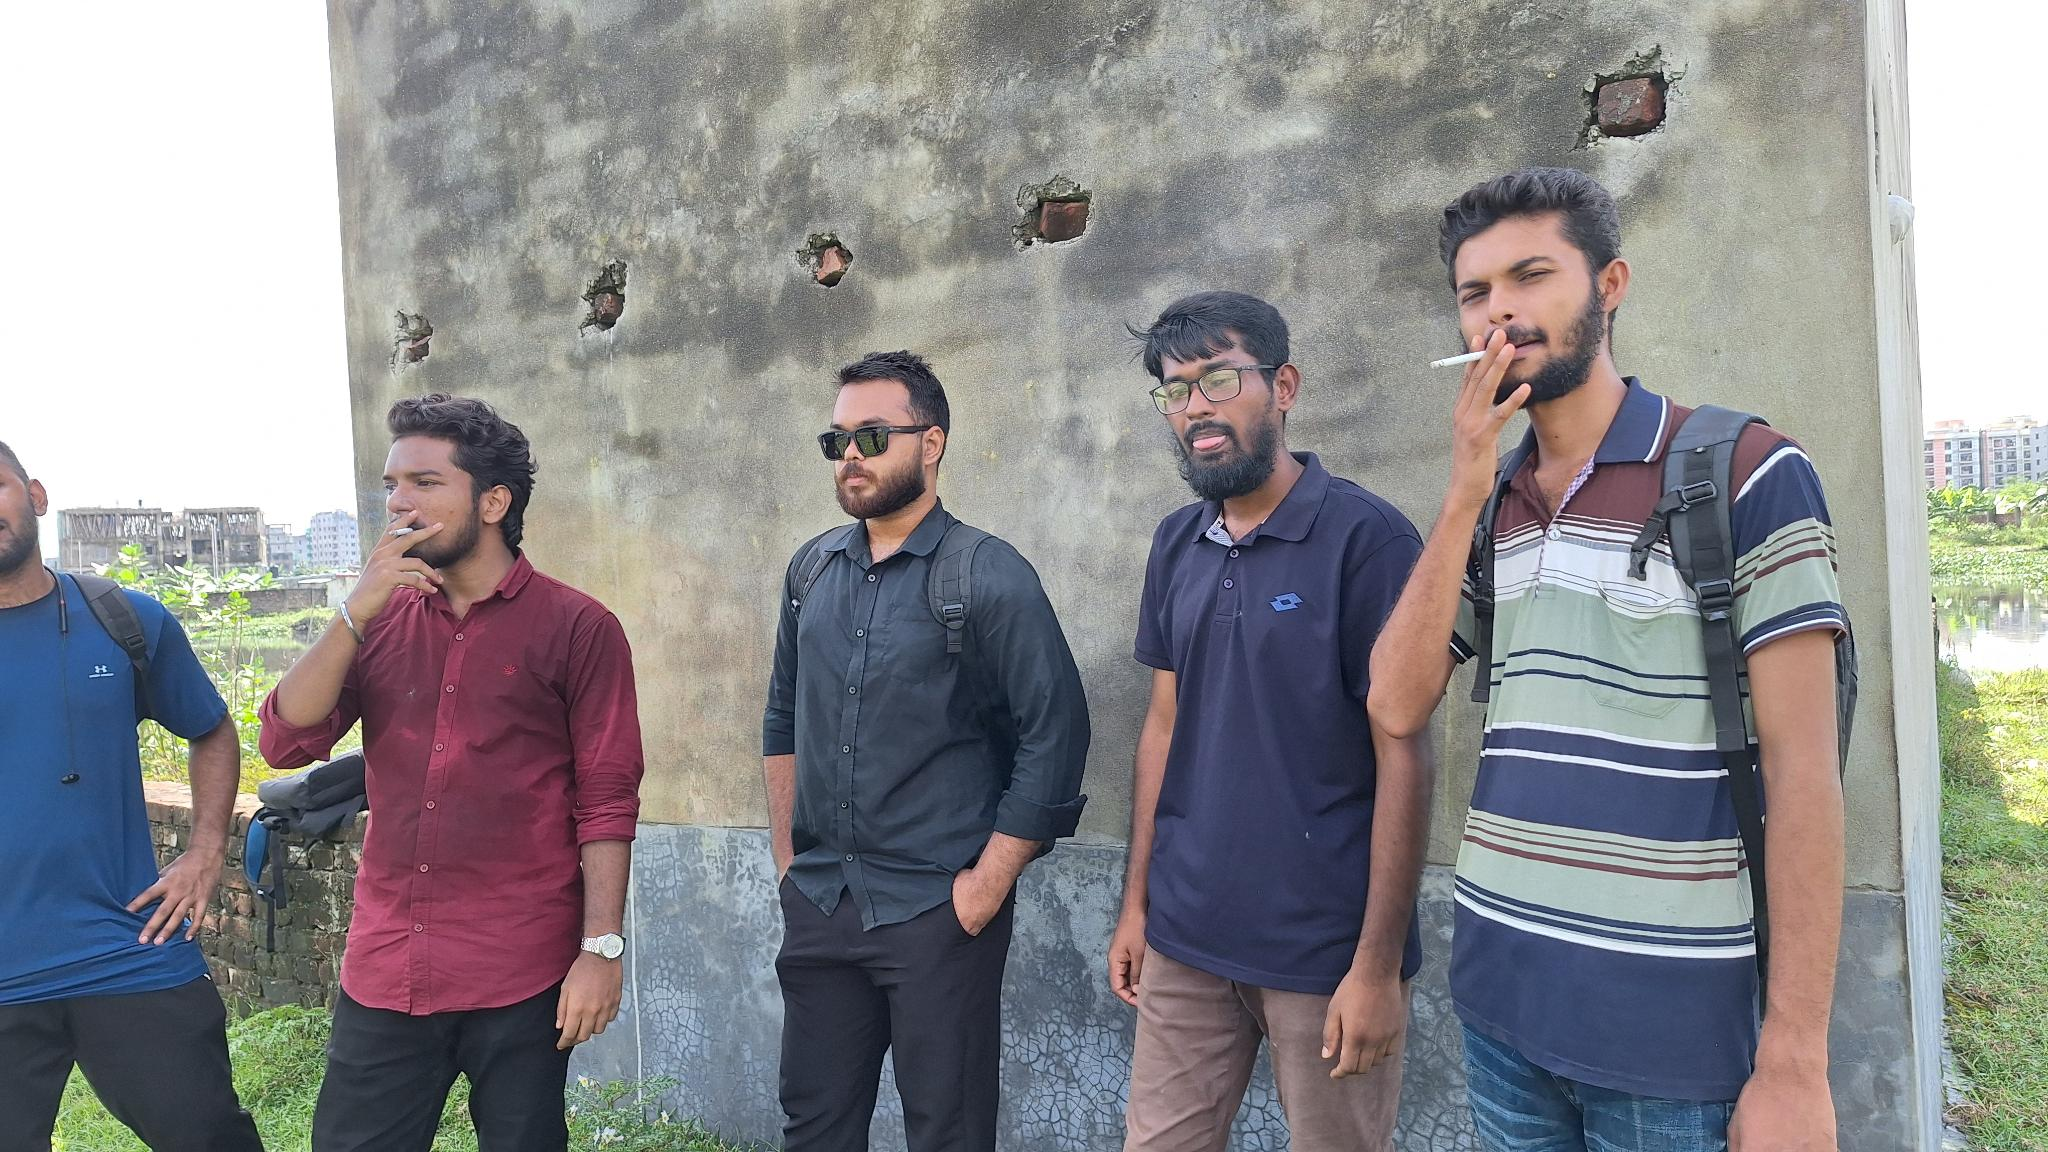cigarette: (1428, 347, 1490, 373), (387, 526, 415, 539)
nonSmoker: (1107, 291, 1436, 1152), (762, 352, 1090, 1152), (0, 437, 263, 1152)
smoker: (1367, 167, 1858, 1152), (257, 395, 643, 1152)
